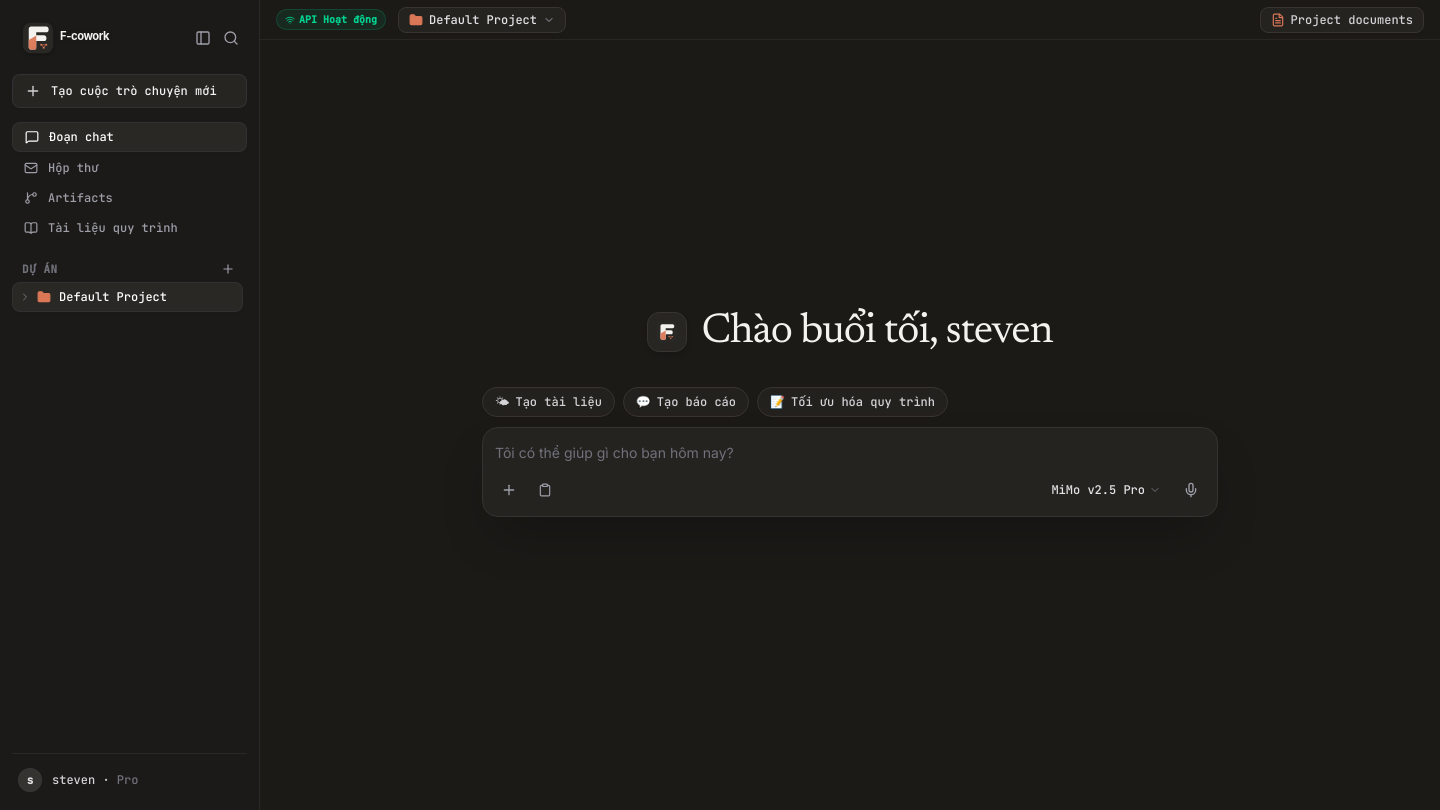
Test: Dashboard Project chat › shows Project documents button in header on chat view and hides it on other views
Note: Clicking header button opens dialog
Click the button "Project documents" at (1342, 20), box [1260,6,1424,32]
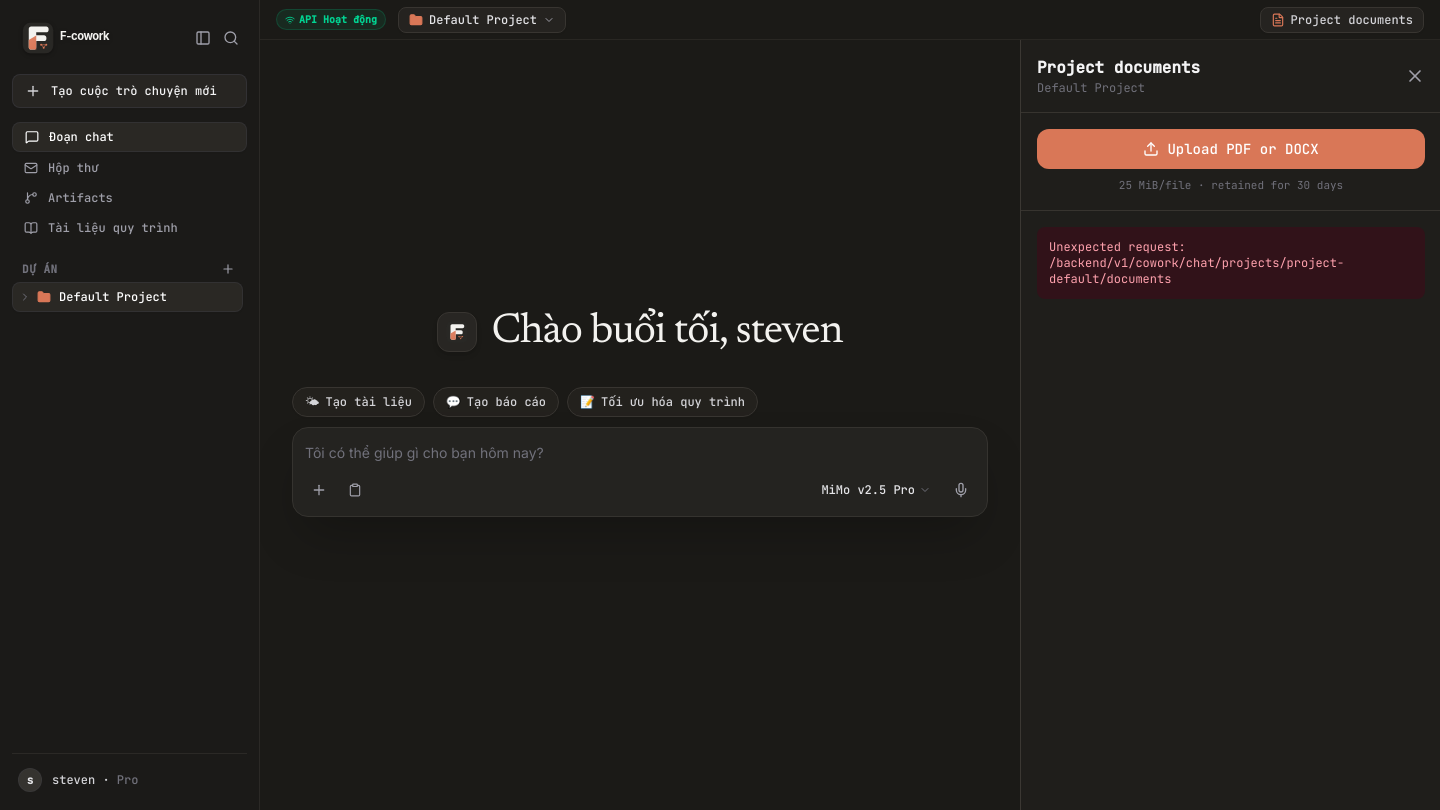
Now the dialog "Project documents" is shown, box [1020,40,1439,809]
Click the button named "Close project documents" at (1415, 76), box [1405,66,1425,86]
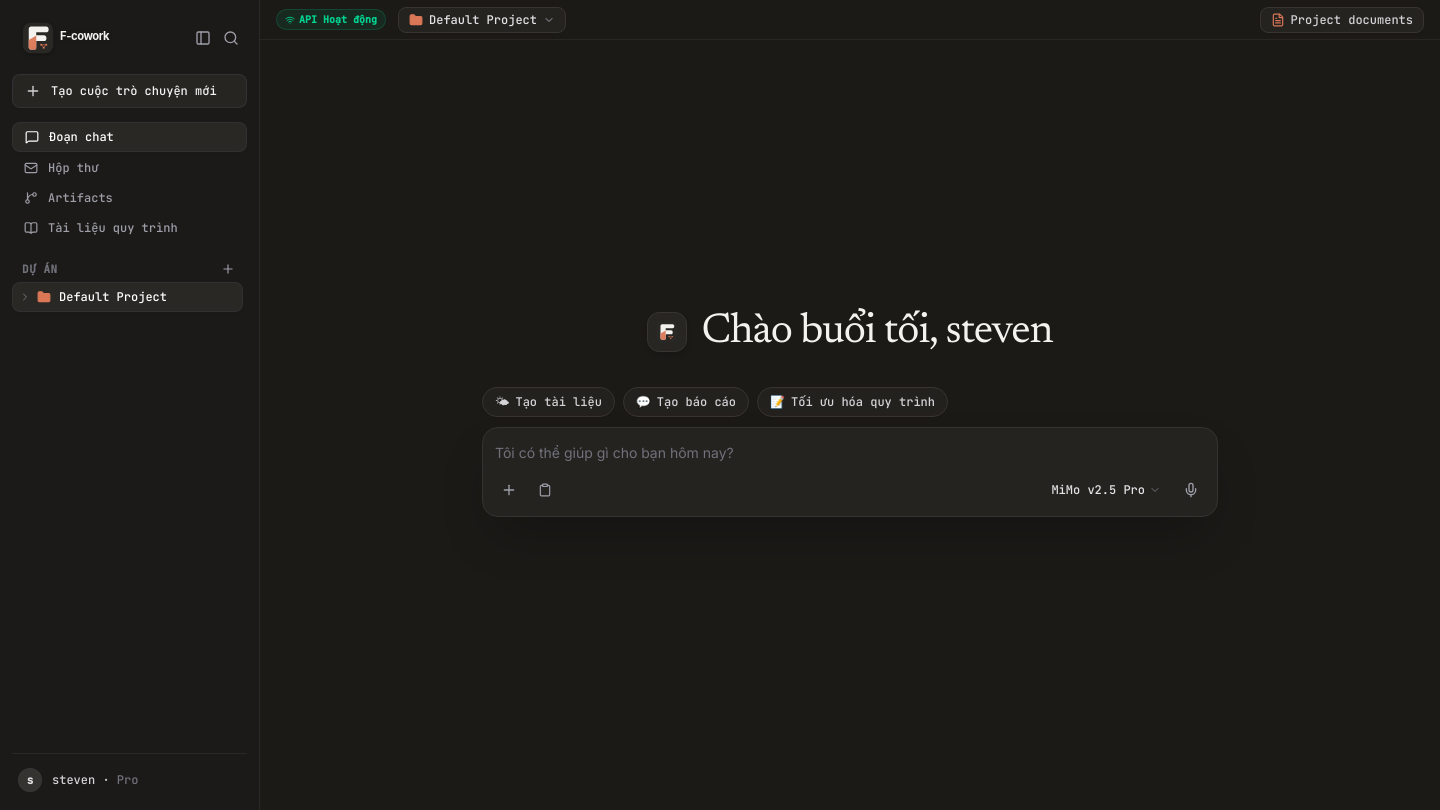
Note: Switch to Mail view
Click the button titled "Hộp thư" at (130, 168), box [12,154,247,182]
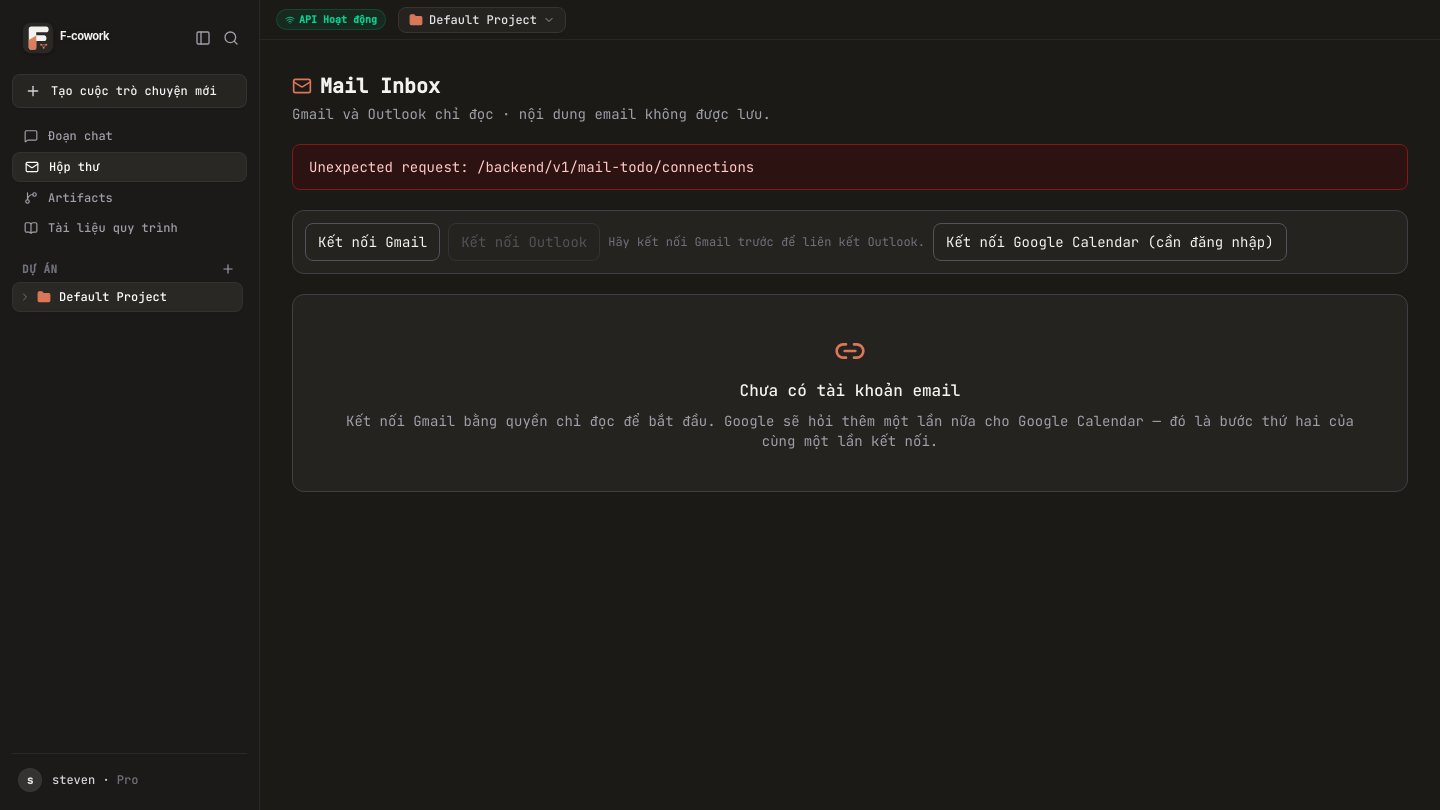
Now the button "Project documents" is gone
